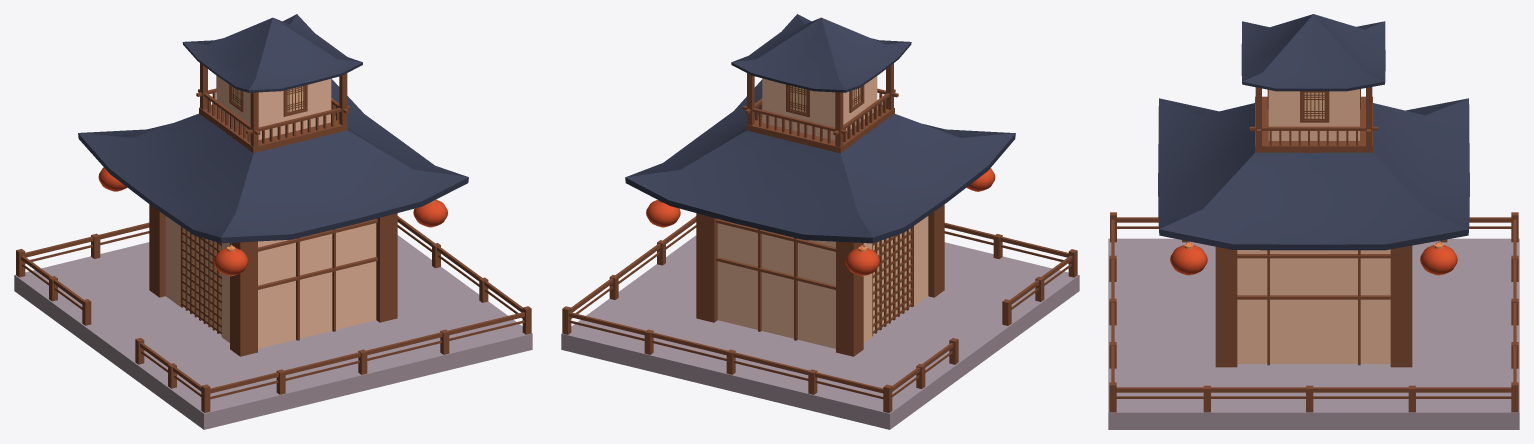
The model's file is houme02_1.fbx.
3 views of the same model, side by side, from view 1: azimuth 30°, elevation 25°; view 2: azimuth 150°, elevation 25°; view 3: azimuth 270°, elevation 25° (orthographic). The views are drawn at different scales.
Visible parts, largest first — view 1: houme02_1; view 2: houme02_1; view 3: houme02_1.
Boxes of the visible parts, x1,y1,x2,y2 form: houme02_1: (14, 14, 532, 429); houme02_1: (561, 14, 1079, 429); houme02_1: (1108, 14, 1519, 429).
Bounding box in the file's own units: 1200 × 1058 × 1200.
